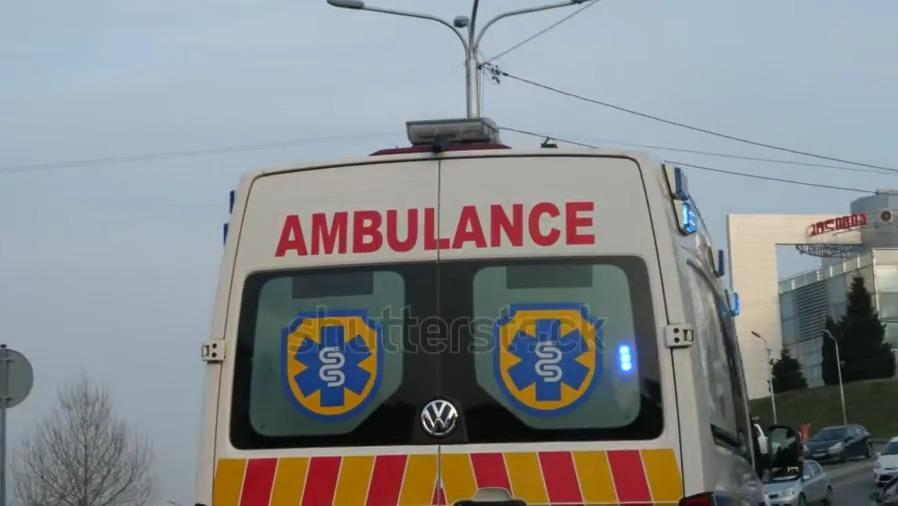Ambulance: (272, 201, 594, 259)
